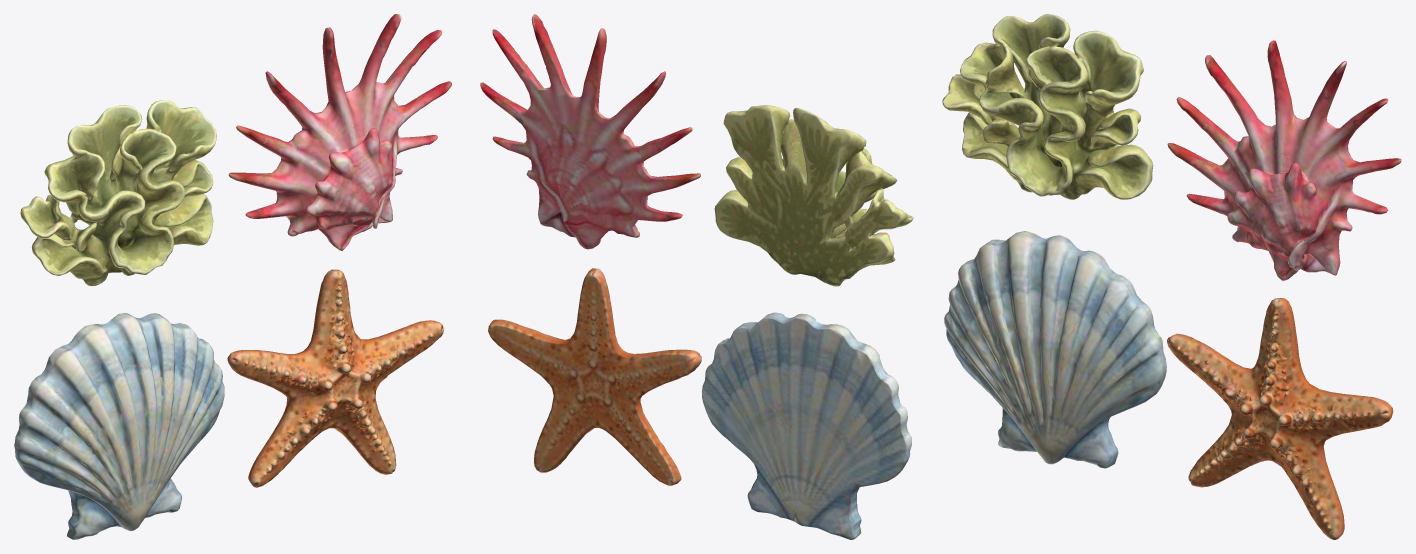
3 views of the same model, side by side, from view 1: azimuth 30°, elevation 25°; view 2: azimuth 150°, elevation 25°; view 3: azimuth 330°, elevation 25° (orthographic). The views are drawn at different scales.
Bounding box in the file's own units: 1.88 × 1.9 × 0.1859.
1 material, 1 textured.
